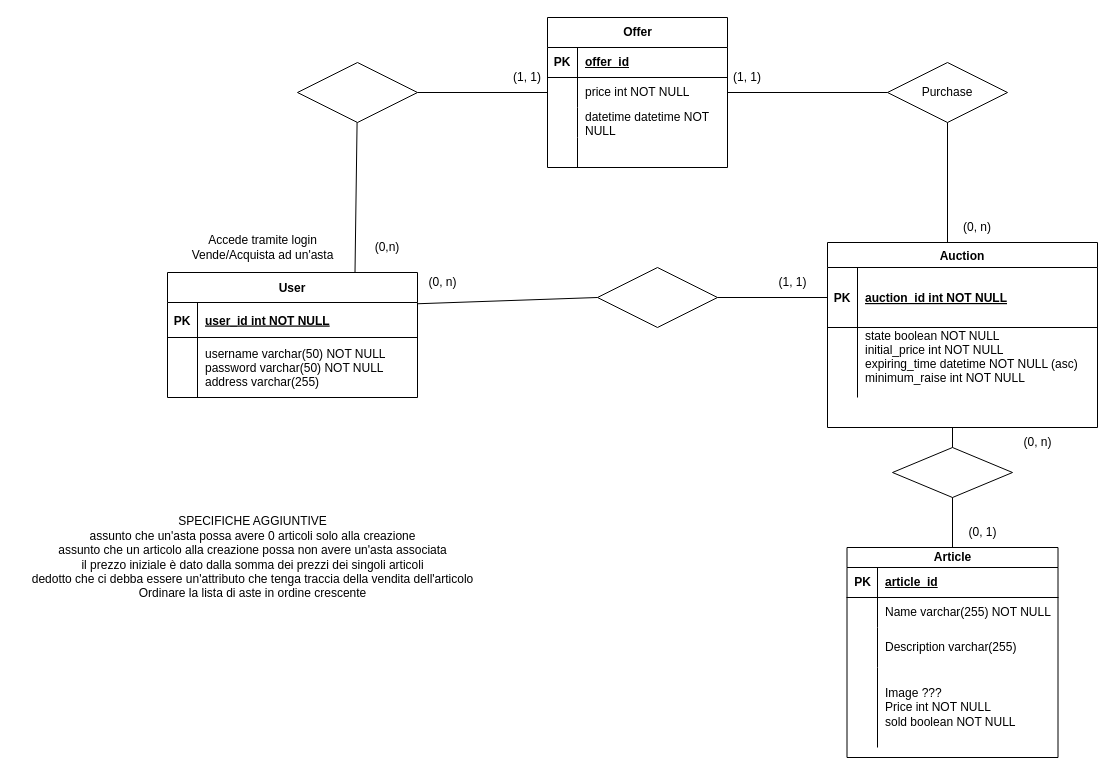
Image size: 1115x775. Some labels were removed from this diagram. Each missing label, with the centre of its shape:
Comprend: (952,472)
Creator: (657,297)
User-Offer: (357,92)
